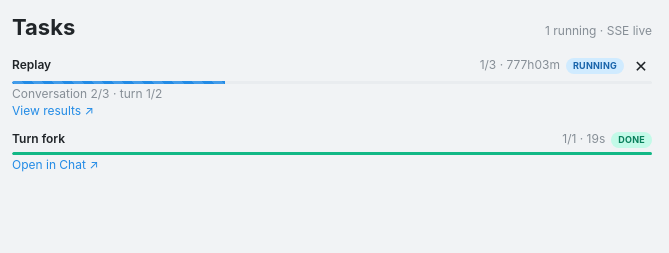
Test case: QueuePage › partial failure offers Retry failed; clicking POSTs and requeues the child
expect the element with test id "task-task-seed-replay" is shown: met, box 12,55 -> 652,119
Step 1. Click the button with aria-label "Toggle children of Replay" → (32, 65), box 12,57 -> 624,74
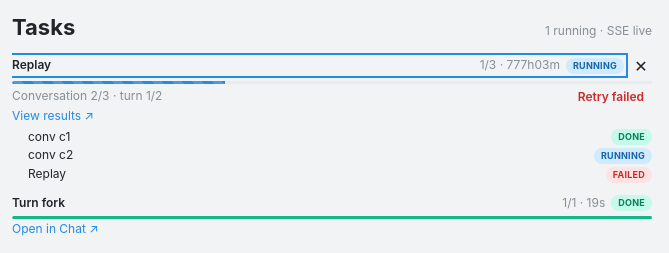
expect the element with test id "children-task-seed-replay" is shown: met, box 28,129 -> 652,183
Step 2. Click the button "Retry failed" → (611, 97), box 570,86 -> 652,108
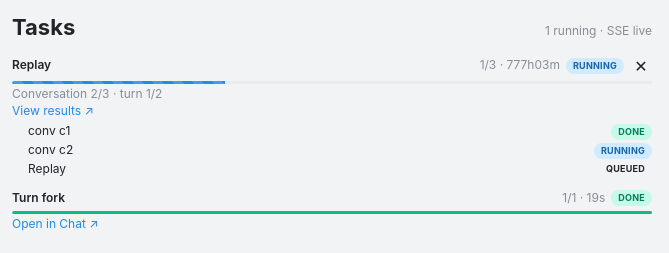
expect the text "queued" is shown: met, box 606,162 -> 645,176
expect the button "failed" is gone: met
